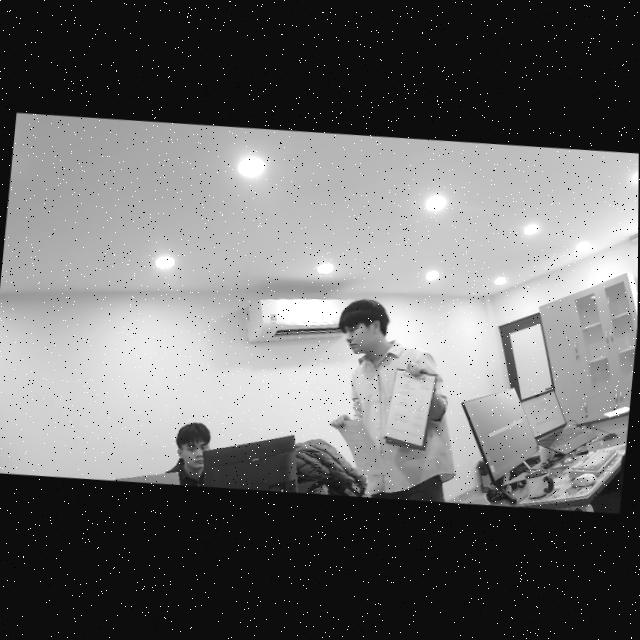document: (385, 370, 435, 444)
face: (339, 302, 383, 360), (168, 420, 210, 472)
